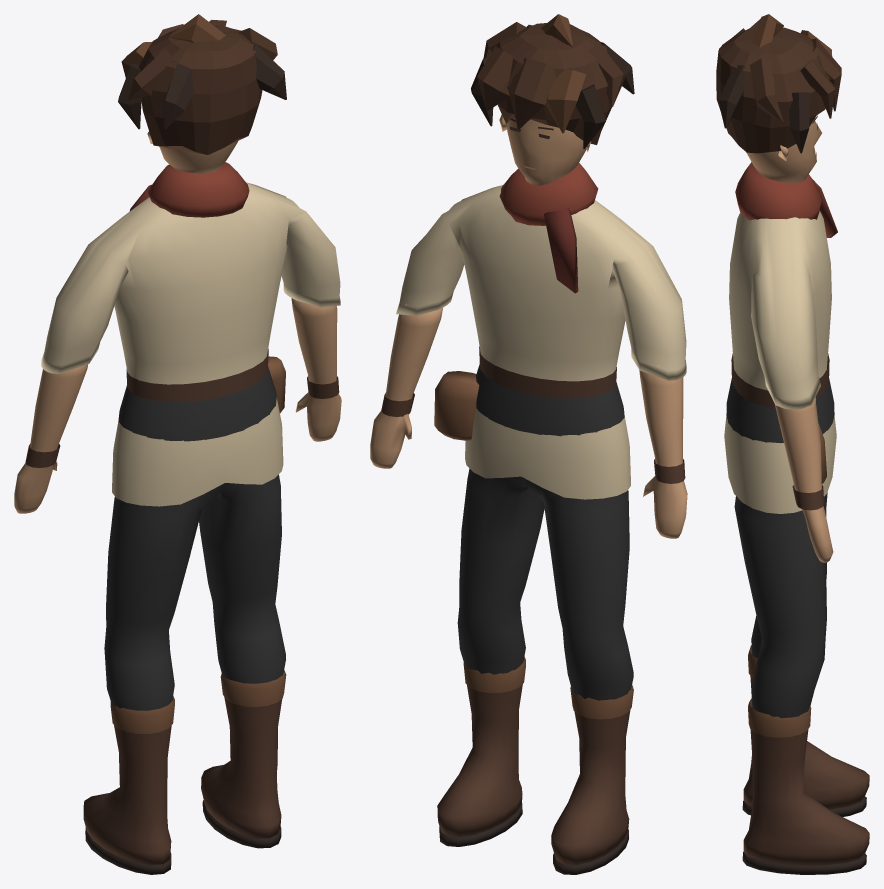
Rendered from adventurer_blockout.glb.
The picture shows the model from 3 angles, left to right: view 1: azimuth 30°, elevation 25°; view 2: azimuth 150°, elevation 25°; view 3: azimuth 270°, elevation 25°; orthographic projection. The views are drawn at different scales.
Visible parts, largest first — view 1: Tunic_shoulders_sleeves_CONTINUOUS, Trousers_seat_crotch_legs_CONTINUOUS, Hair_main_mass, Boot_main_-1, Boot_main_1, Forearm_hand_1, Forearm_hand_-1, Scarf_wrap_BLOCKOUT, Belt_BLOCKOUT, Boot_cuff_blockout_1, Boot_cuff_blockout_-1, HeadNeck_continuous (+8 smaller); view 2: Tunic_shoulders_sleeves_CONTINUOUS, Trousers_seat_crotch_legs_CONTINUOUS, Boot_main_1, Boot_main_-1, Forearm_hand_-1, Hair_main_mass, Forearm_hand_1, Scarf_wrap_BLOCKOUT, HeadNeck_continuous, Pouch_BLOCKOUT, Belt_BLOCKOUT, Hair_fringe_1 (+10 smaller); view 3: Tunic_shoulders_sleeves_CONTINUOUS, Trousers_seat_crotch_legs_CONTINUOUS, Boot_main_1, Hair_main_mass, Forearm_hand_1, Scarf_wrap_BLOCKOUT, Boot_main_-1, HeadNeck_continuous, Boot_cuff_blockout_1, Boot_sole_1, Hair_side_sweep_1, Hair_temple_1 (+8 smaller).
Boxes of the visible parts, x1=… form: Tunic_shoulders_sleeves_CONTINUOUS: x1=41, y1=182, x2=340, y2=506; Trousers_seat_crotch_legs_CONTINUOUS: x1=104, y1=366, x2=285, y2=710; Hair_main_mass: x1=139, y1=25, x2=262, y2=154; Boot_main_-1: x1=83, y1=725, x2=171, y2=865; Boot_main_1: x1=201, y1=697, x2=282, y2=838; Forearm_hand_1: x1=291, y1=298, x2=341, y2=441; Forearm_hand_-1: x1=14, y1=364, x2=87, y2=513; Scarf_wrap_BLOCKOUT: x1=147, y1=162, x2=249, y2=217; Belt_BLOCKOUT: x1=126, y1=349, x2=268, y2=401; Boot_cuff_blockout_1: x1=220, y1=670, x2=286, y2=707; Boot_cuff_blockout_-1: x1=110, y1=696, x2=174, y2=733; HeadNeck_continuous: x1=159, y1=141, x2=237, y2=173; Tunic_shoulders_sleeves_CONTINUOUS: x1=396, y1=184, x2=686, y2=499; Trousers_seat_crotch_legs_CONTINUOUS: x1=457, y1=364, x2=633, y2=700; Boot_main_1: x1=437, y1=684, x2=522, y2=837; Boot_main_-1: x1=551, y1=710, x2=630, y2=864; Forearm_hand_-1: x1=639, y1=365, x2=687, y2=538; Hair_main_mass: x1=496, y1=23, x2=611, y2=144; Forearm_hand_1: x1=370, y1=304, x2=442, y2=468; Scarf_wrap_BLOCKOUT: x1=499, y1=163, x2=598, y2=225; HeadNeck_continuous: x1=506, y1=118, x2=586, y2=185; Pouch_BLOCKOUT: x1=434, y1=371, x2=479, y2=440; Belt_BLOCKOUT: x1=479, y1=346, x2=616, y2=398; Hair_fringe_1: x1=508, y1=58, x2=555, y2=129; Tunic_shoulders_sleeves_CONTINUOUS: x1=724, y1=210, x2=836, y2=513; Trousers_seat_crotch_legs_CONTINUOUS: x1=726, y1=368, x2=834, y2=718; Boot_main_1: x1=743, y1=729, x2=869, y2=865; Hair_main_mass: x1=716, y1=27, x2=829, y2=153; Forearm_hand_1: x1=775, y1=387, x2=833, y2=562; Scarf_wrap_BLOCKOUT: x1=735, y1=162, x2=821, y2=220; Boot_main_-1: x1=743, y1=676, x2=869, y2=809; HeadNeck_continuous: x1=746, y1=118, x2=821, y2=182; Boot_cuff_blockout_1: x1=748, y1=698, x2=811, y2=737; Boot_sole_1: x1=742, y1=852, x2=866, y2=874; Hair_side_sweep_1: x1=749, y1=58, x2=783, y2=122; Hair_temple_1: x1=789, y1=92, x2=809, y2=153.
Size of the model in its own units: 0.762 by 1.88 by 0.3193.
